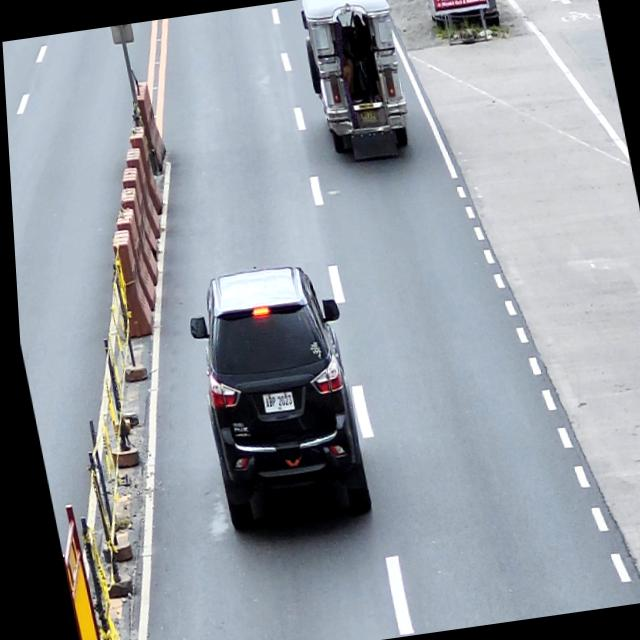Car: (176, 259, 374, 533)
Jeep: (296, 0, 416, 163)
License-Plate: (258, 393, 290, 415), (358, 108, 377, 123)
